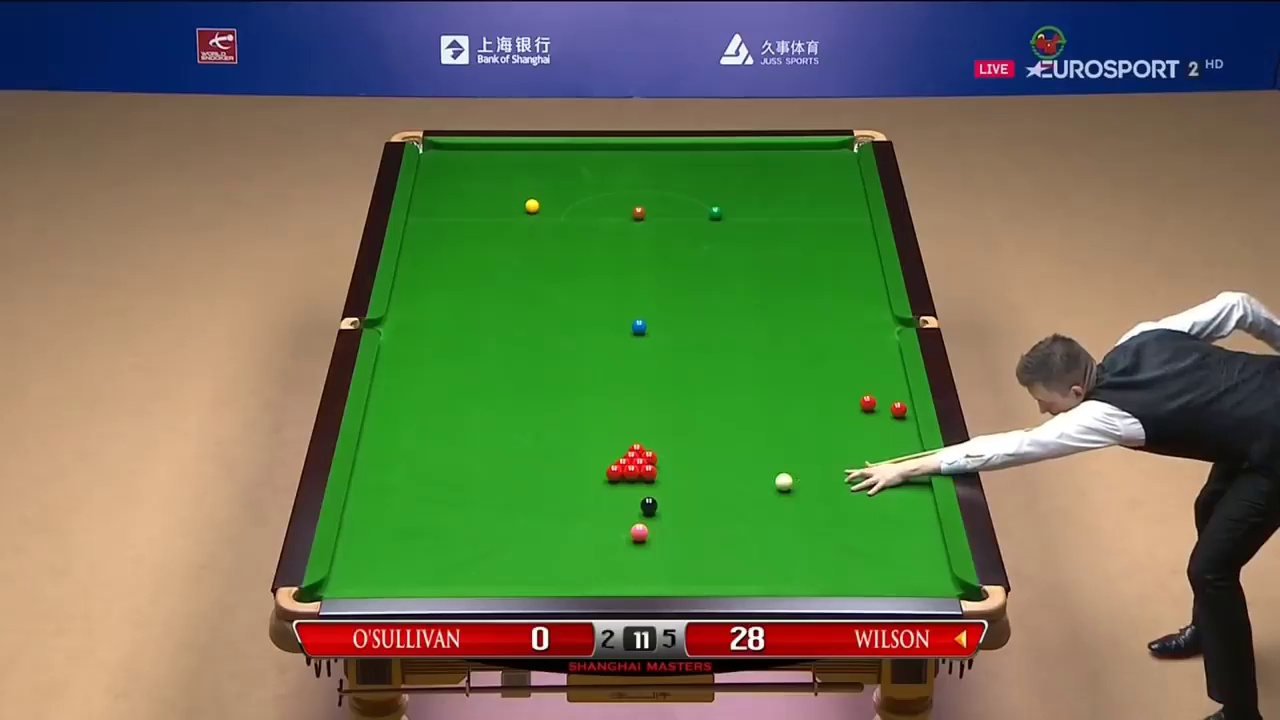ball: (629, 521, 645, 543), (638, 497, 657, 514), (775, 471, 791, 491), (604, 464, 620, 484), (859, 397, 875, 415), (893, 399, 906, 419), (525, 197, 540, 213), (708, 202, 721, 219), (633, 315, 644, 333), (633, 205, 647, 219)
